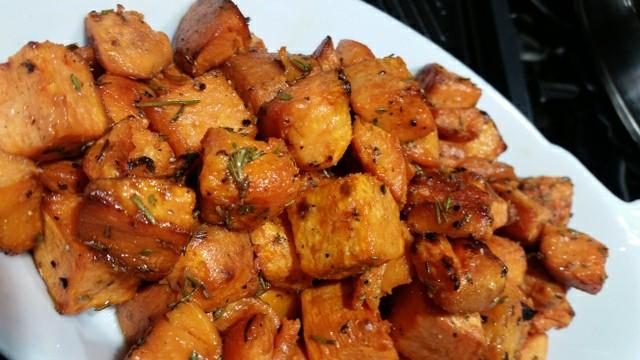AlooMasala: (0, 0, 609, 360)
